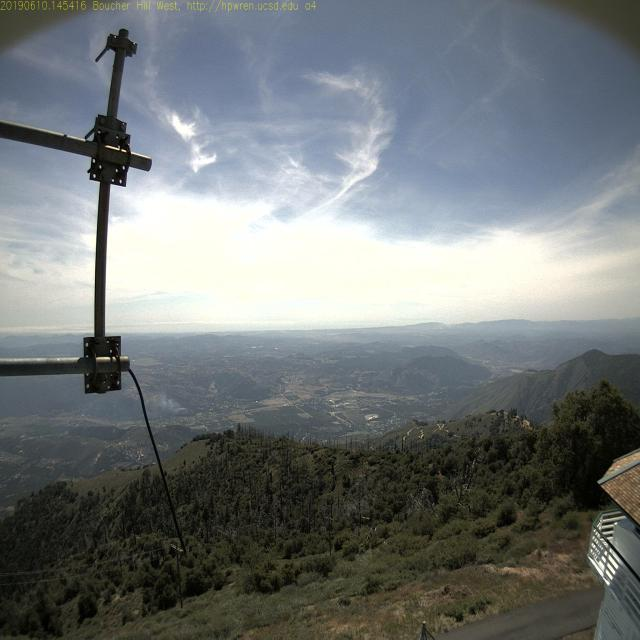smoke: (174, 395, 194, 424)
